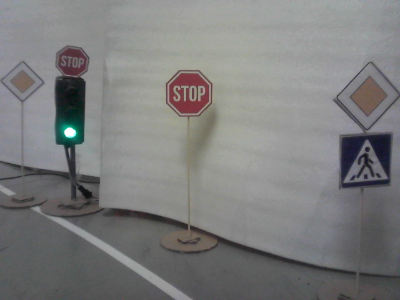crosswalk: (342, 136, 390, 185)
priority_road: (337, 64, 399, 129), (2, 62, 43, 101)
stop: (167, 72, 212, 117), (57, 47, 88, 78)
trafficlight_green: (55, 79, 83, 142)
